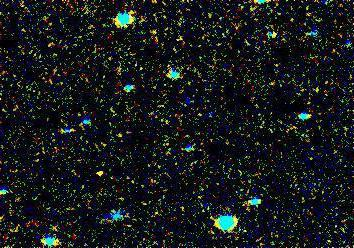star: (86, 159, 116, 189)
